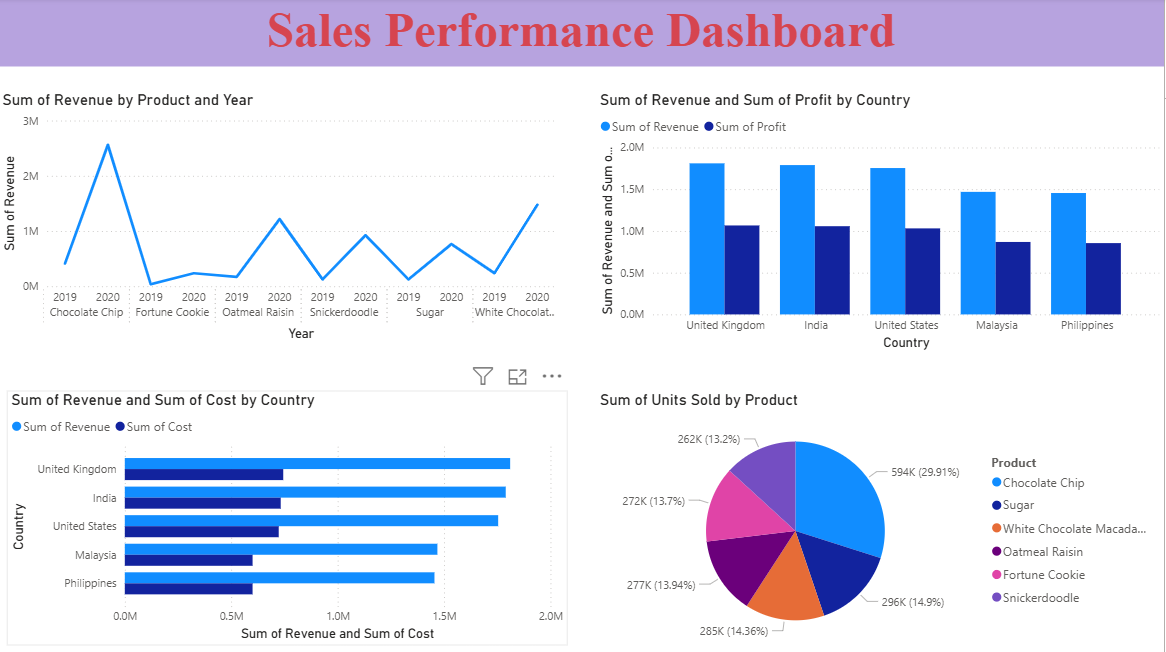

The page's visual inventory and layout, read from the dashboard file:
{"tool":"powerbi","page":{"name":"Page 1","canvas":[1280,720],"ordinal":0},"visuals":[{"type":"lineChart","fields":{"Y":["Sum(Data_after_Wrangling.Revenue)"],"Category":["Data_after_Wrangling.Product","Data_after_Wrangling.Date.Variation.Date Hierarchy.Year"]},"box":[0,101.5,616.1,279.9],"z":0},{"type":"clusteredBarChart","fields":{"Y":["Sum(Data_after_Wrangling.Revenue)","Sum(Data_after_Wrangling.Cost)"],"Category":["Data_after_Wrangling.Country"]},"box":[9.6,430.9,616.1,279.9],"z":1000},{"type":"clusteredColumnChart","fields":{"Category":["Data_after_Wrangling.Country"],"Y":["Sum(Data_after_Wrangling.Revenue)","Sum(Data_after_Wrangling.Profit)"]},"box":[655.9,101.5,624.4,289.5],"z":2000},{"type":"pieChart","fields":{"Category":["Data_after_Wrangling.Product"],"Y":["Sum(Data_after_Wrangling.Units Sold)"]},"box":[655.9,430.9,624.4,289.5],"z":3000},{"type":"textbox","box":[0,0,1280.3,75.5],"z":4000}]}

Visuals, with their boxes in screenshot pixels (x1, y1, x2, y2), scaled from the page's 1280x720 canvas onto the 1166x652 screenshot:
lineChart - Sum(Data_after_Wrangling.Revenue) x Data_after_Wrangling.Product: Rect(0, 92, 561, 345)
clusteredBarChart - Sum(Data_after_Wrangling.Revenue) x Sum(Data_after_Wrangling.Cost): Rect(9, 390, 570, 644)
clusteredColumnChart - Data_after_Wrangling.Country x Sum(Data_after_Wrangling.Revenue): Rect(597, 92, 1165, 354)
pieChart - Data_after_Wrangling.Product x Sum(Data_after_Wrangling.Units Sold): Rect(597, 390, 1165, 651)
textbox: Rect(0, 0, 1165, 68)
